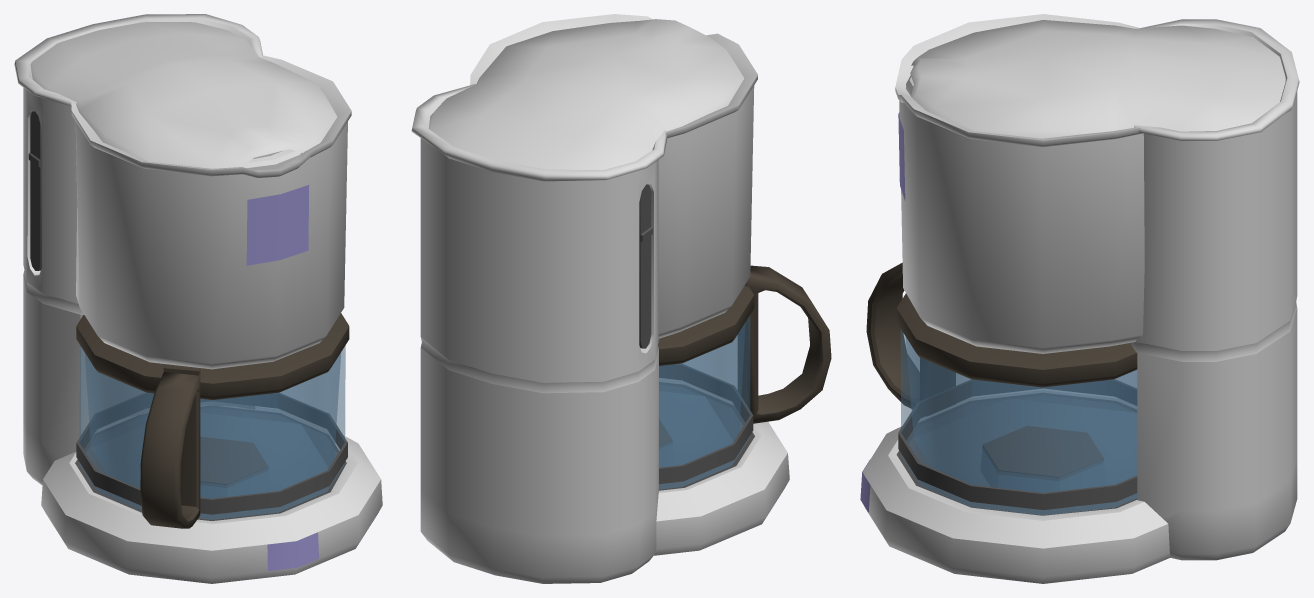
Rendered from PHILIPSHD740099.FBX.
3 renders of one model, left to right at view 1: azimuth 30°, elevation 25°; view 2: azimuth 150°, elevation 25°; view 3: azimuth 270°, elevation 25°, orthographic. The views are drawn at different scales.
Visible parts, largest first — view 1: PHILIPSHD740099; view 2: PHILIPSHD740099; view 3: PHILIPSHD740099.
Boxes of the visible parts, left/top/right/bottom form: PHILIPSHD740099: left=14, top=14, right=382, bottom=583; PHILIPSHD740099: left=411, top=14, right=831, bottom=583; PHILIPSHD740099: left=860, top=14, right=1299, bottom=583.
Bounding box in the file's own units: 17.5 × 21 × 24.
